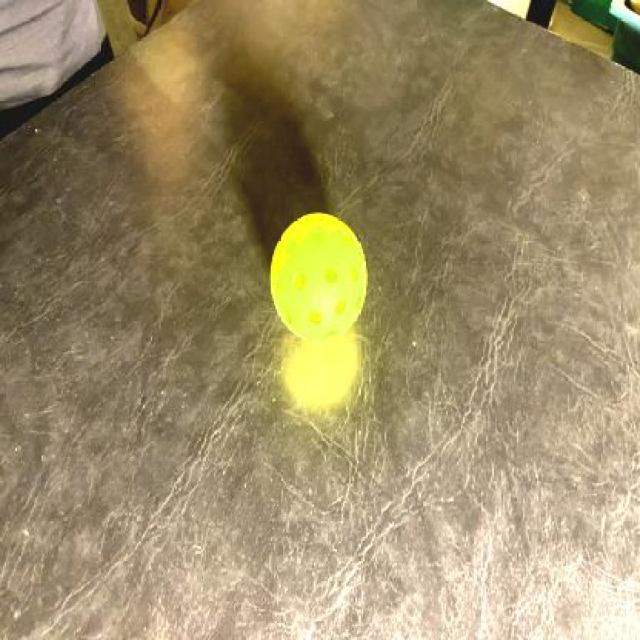ball: (274, 211, 376, 340)
